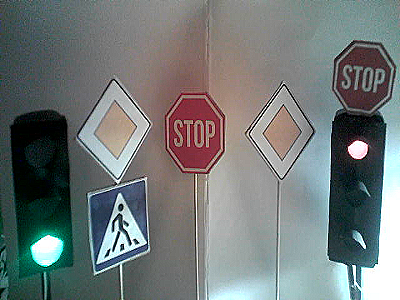crosswalk: (91, 186, 149, 265)
priority_road: (76, 78, 153, 181), (247, 84, 314, 179)
stop: (164, 95, 226, 175), (333, 42, 395, 114)
trafficlight_green: (15, 118, 71, 273)
trafficlight_red: (330, 117, 381, 267)
